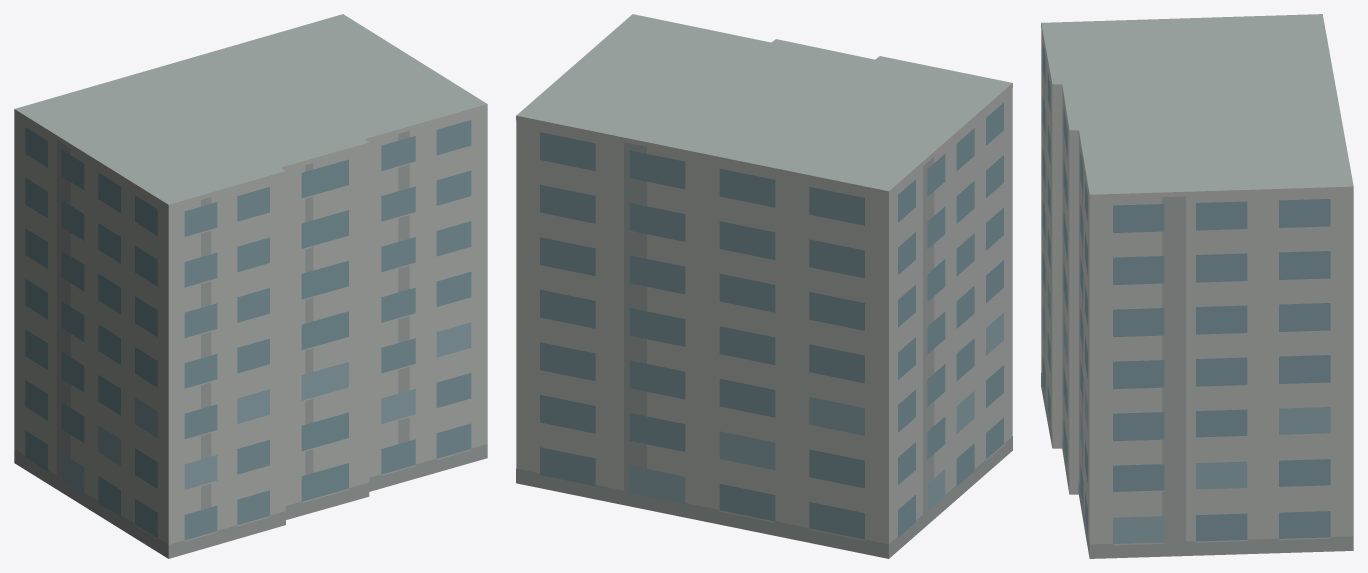
The model's file is survey-upis-32954510.glb.
3 renders of one model, left to right at view 1: azimuth 30°, elevation 25°; view 2: azimuth 150°, elevation 25°; view 3: azimuth 270°, elevation 25°, orthographic. The views are drawn at different scales.
Parts seen in each view (by area): view 1: survey-upis-32954510.tmp; view 2: survey-upis-32954510.tmp; view 3: survey-upis-32954510.tmp.
Boxes of the visible parts, <box> form: survey-upis-32954510.tmp: <box>14,14,487,558</box>; survey-upis-32954510.tmp: <box>516,14,1012,558</box>; survey-upis-32954510.tmp: <box>1041,14,1353,558</box>.
Bounding box in the file's own units: 20.19 × 18.97 × 14.76.
